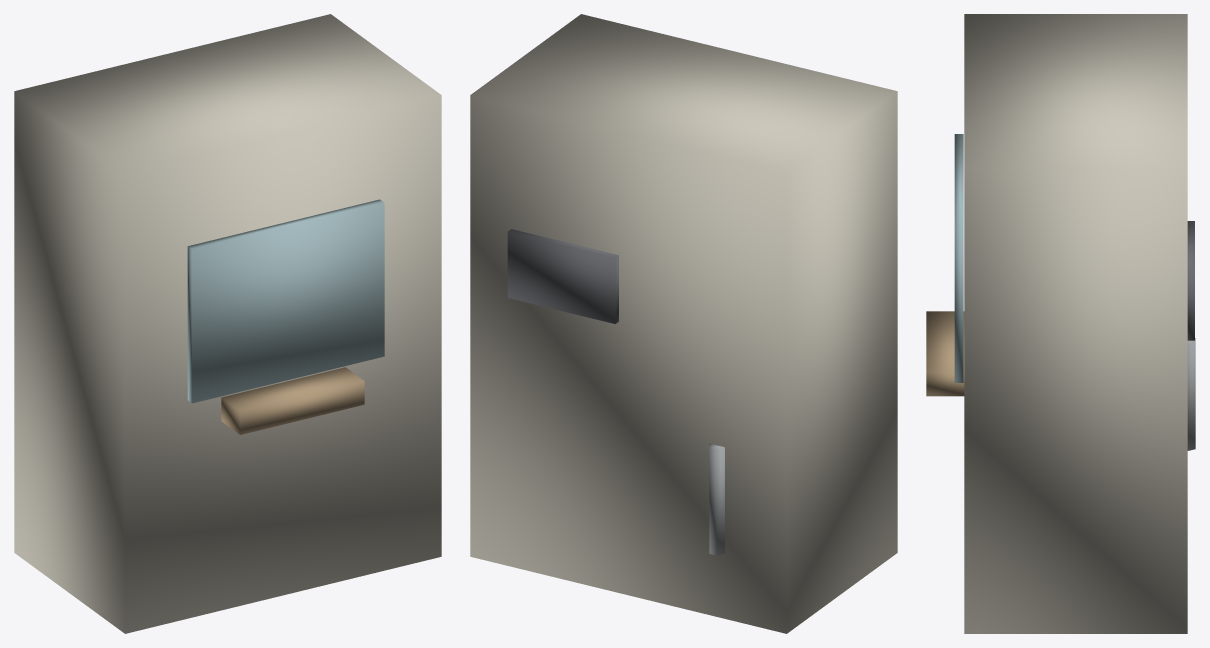
File: ticket_booth__service.glb
3 views of the same model, side by side, from view 1: azimuth 30°, elevation 25°; view 2: azimuth 150°, elevation 25°; view 3: azimuth 270°, elevation 25° (orthographic).
Visible parts, largest first — view 1: world; view 2: world; view 3: world.
Part boxes in pixels (x1,y1,x2,y2): world: (14,14,441,633); world: (470,14,897,633); world: (926,14,1195,633).
Bounding box in the file's own units: 1.4 × 1.95 × 1.03.
